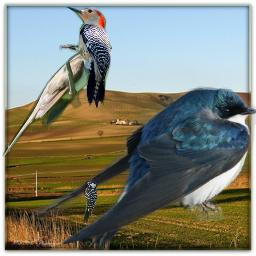Cuckoo: (2, 41, 112, 157)
Swallow: (31, 86, 256, 249)
Woodpecker: (59, 7, 111, 108), (83, 180, 98, 223)
